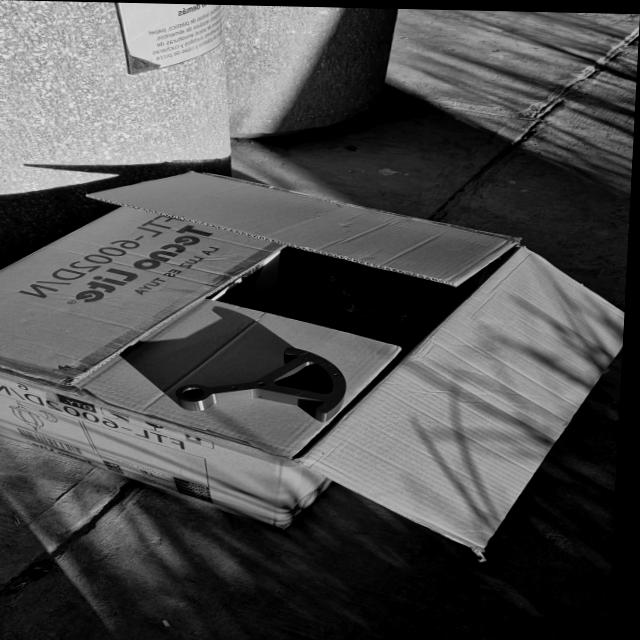haptic: (173, 344, 350, 424)
